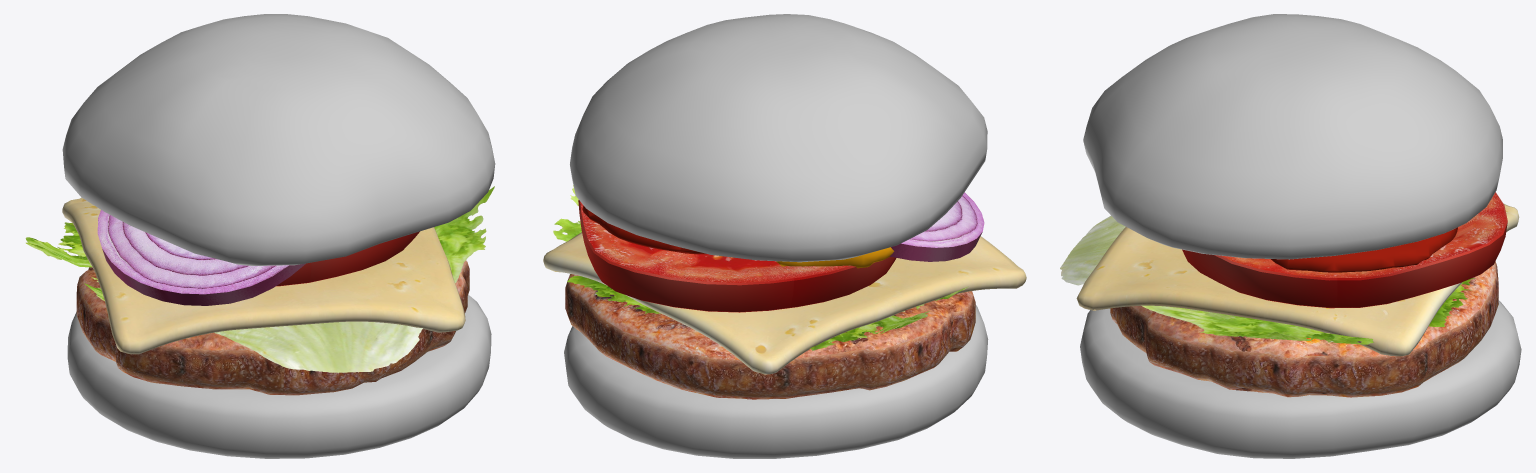
The model's file is Hamburger.fbx.
The picture shows the model from 3 angles, left to right: view 1: azimuth 30°, elevation 25°; view 2: azimuth 150°, elevation 25°; view 3: azimuth 270°, elevation 25°; orthographic projection.
Parts seen in each view (by area): view 1: Bread_top.001, Bread_bottom.001, Cheese.001, Meat.001, Cabbage.001, Onion.001, Tomato.001; view 2: Bread_top.001, Bread_bottom.001, Meat.001, Cheese.001, Tomato.001, Onion.001, Cabbage.001, Ketchup.001, Mustard.001; view 3: Bread_top.001, Bread_bottom.001, Meat.001, Cheese.001, Tomato.001, Cabbage.001, Ketchup.001.
Part boxes in pixels (x1,y1,x2,y2): Bread_top.001: (62,14,495,266); Bread_bottom.001: (67,294,491,458); Cheese.001: (62,197,465,354); Meat.001: (76,260,469,395); Cabbage.001: (25,186,494,372); Onion.001: (97,210,305,305); Tomato.001: (276,231,419,286); Bread_top.001: (570,14,987,262); Bread_bottom.001: (564,305,988,458); Meat.001: (565,274,975,399); Cheese.001: (543,232,1026,374); Tomato.001: (578,200,896,312); Onion.001: (890,192,984,261); Cabbage.001: (553,185,968,350); Ketchup.001: (582,205,706,254); Mustard.001: (776,247,894,268); Bread_top.001: (1083,14,1502,259); Bread_bottom.001: (1080,300,1521,458); Meat.001: (1110,261,1498,397); Cheese.001: (1076,203,1519,356); Tomato.001: (1182,192,1507,308); Cabbage.001: (1060,216,1475,344); Ketchup.001: (1271,227,1457,272).
Bounding box in the file's own units: 253 × 194 × 243.
